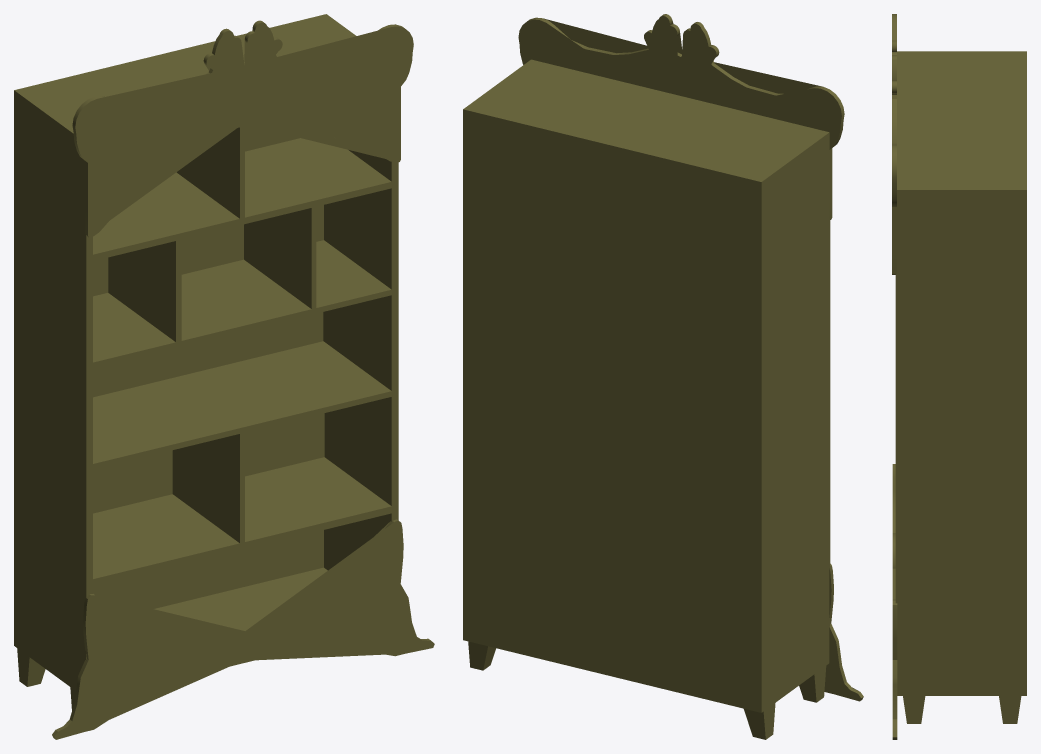
Rendered from FBX_Librero_02.fbx.
The picture shows the model from 3 angles, left to right: view 1: azimuth 30°, elevation 25°; view 2: azimuth 150°, elevation 25°; view 3: azimuth 270°, elevation 25°; orthographic projection. The views are drawn at different scales.
Parts seen in each view (by area): view 1: polySurface55; view 2: polySurface55; view 3: polySurface55.
Boxes of the visible parts, box(x1,y1,x2,y2) form: polySurface55: box(14, 14, 434, 739); polySurface55: box(463, 14, 863, 739); polySurface55: box(892, 14, 1026, 739).
Bounding box in the file's own units: 1.22 × 2.04 × 0.4107.
